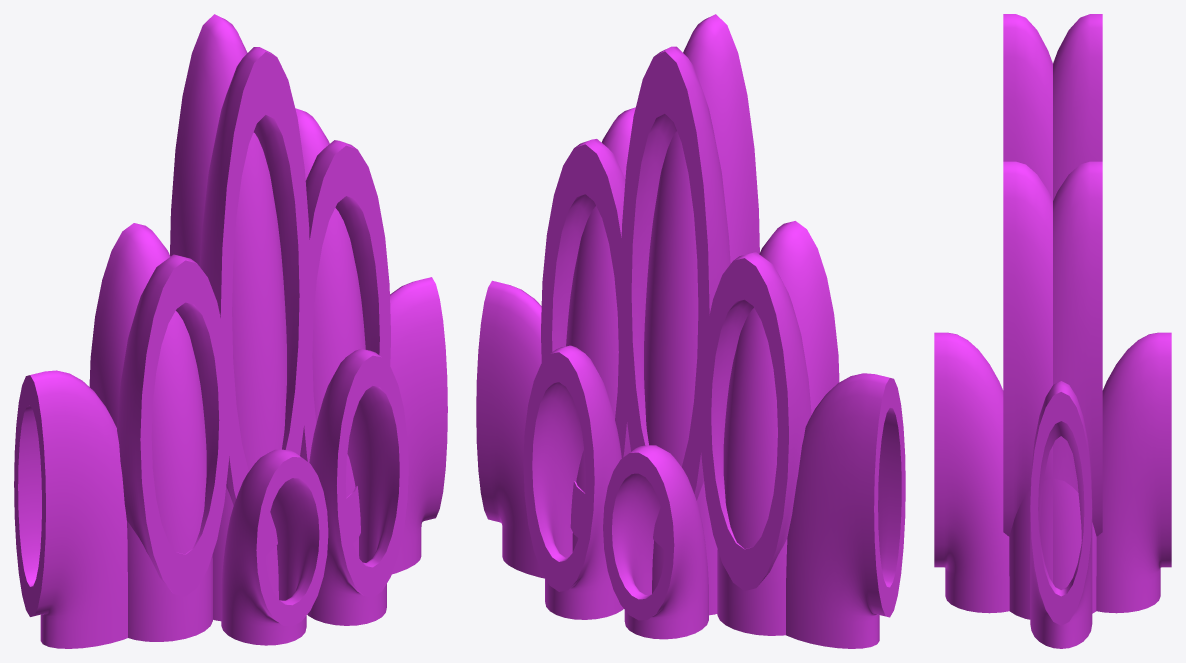
File: coral_tube_pink.fbx
3 views of the same model, side by side, from view 1: azimuth 30°, elevation 25°; view 2: azimuth 150°, elevation 25°; view 3: azimuth 270°, elevation 25° (orthographic). The views are drawn at different scales.
Parts seen in each view (by area): view 1: mergedBlocks; view 2: mergedBlocks; view 3: mergedBlocks.
Boxes of the visible parts, bbox=[...] form: mergedBlocks: bbox=[14, 14, 447, 648]; mergedBlocks: bbox=[476, 14, 905, 648]; mergedBlocks: bbox=[934, 14, 1171, 648].
Bounding box in the file's own units: 6.5 × 8.77 × 3.44.
